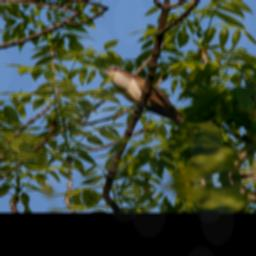Cuckoo: (99, 57, 189, 136)
